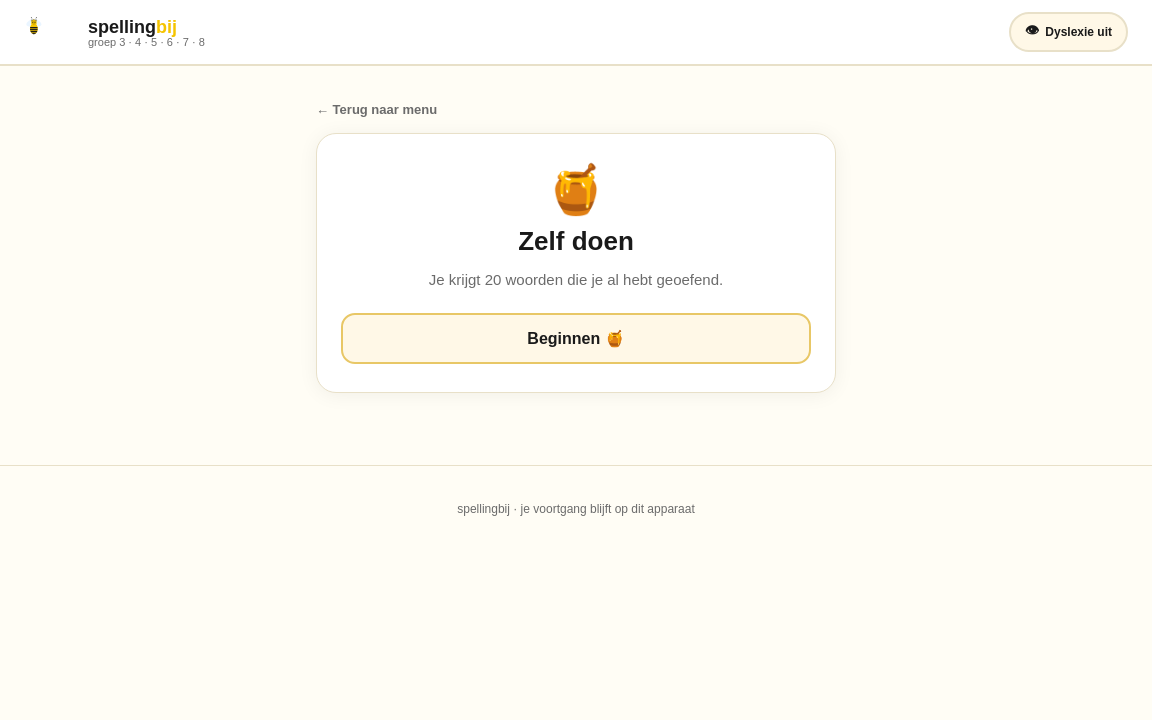
Test: Zelf doen met werkwoordzinnen gemengd door de woorden › een zin-item toont meteen het gat (geen flits-fase), zonder feedback, en telt mee in het resultaat
Click the button "Beginnen 🍯" at [576, 338], box top-left (341, 312), bottom-right (811, 364)
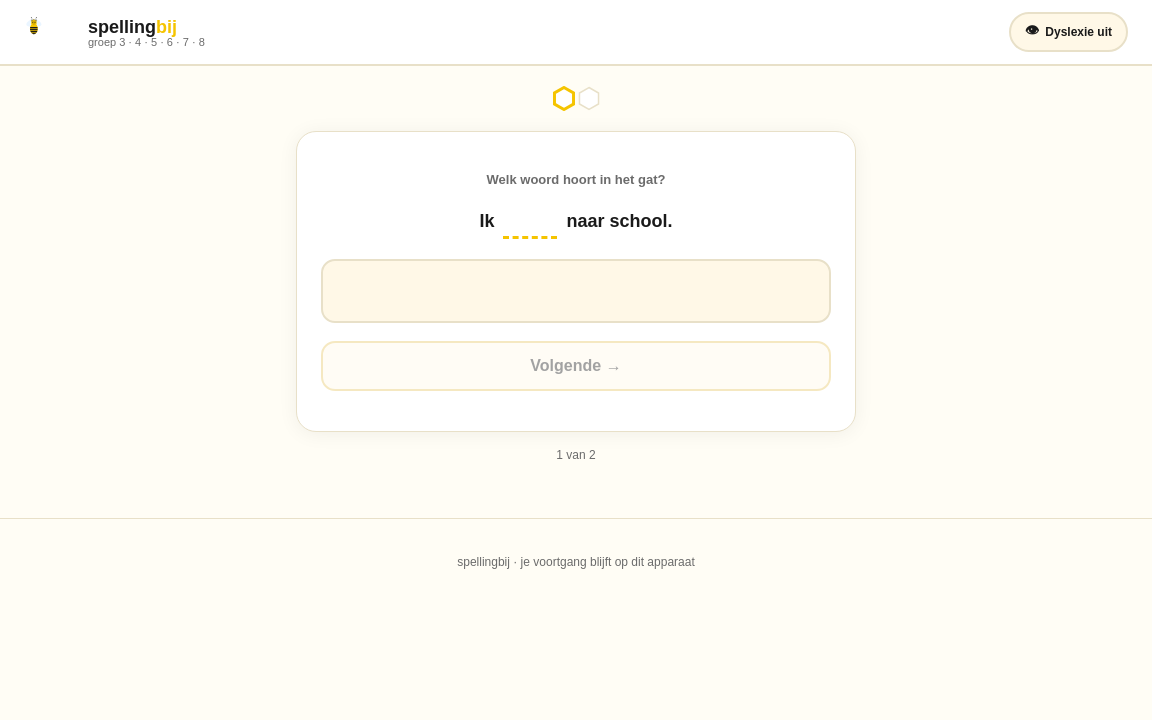
Now the text "Welk woord hoort in het gat?" is shown, box top-left (487, 172), bottom-right (666, 187)
Type "loop" into the field at [576, 291], box top-left (321, 259), bottom-right (831, 323)
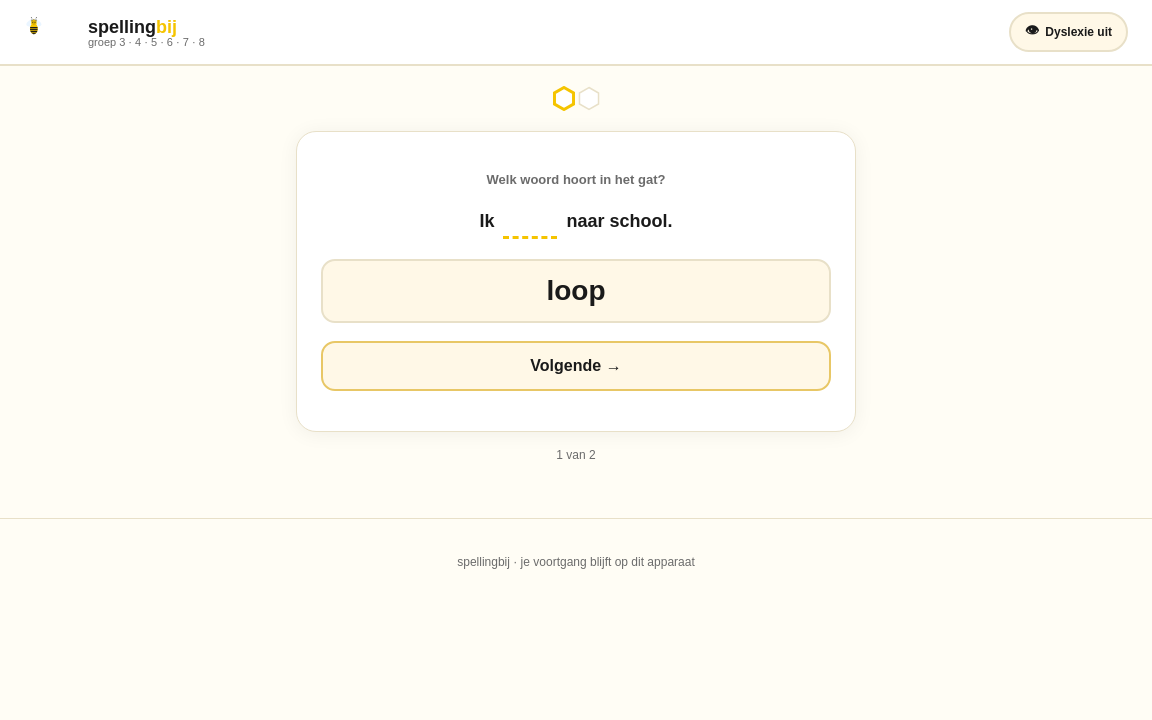
Click the button "Volgende →" at [576, 366], box top-left (321, 341), bottom-right (831, 391)
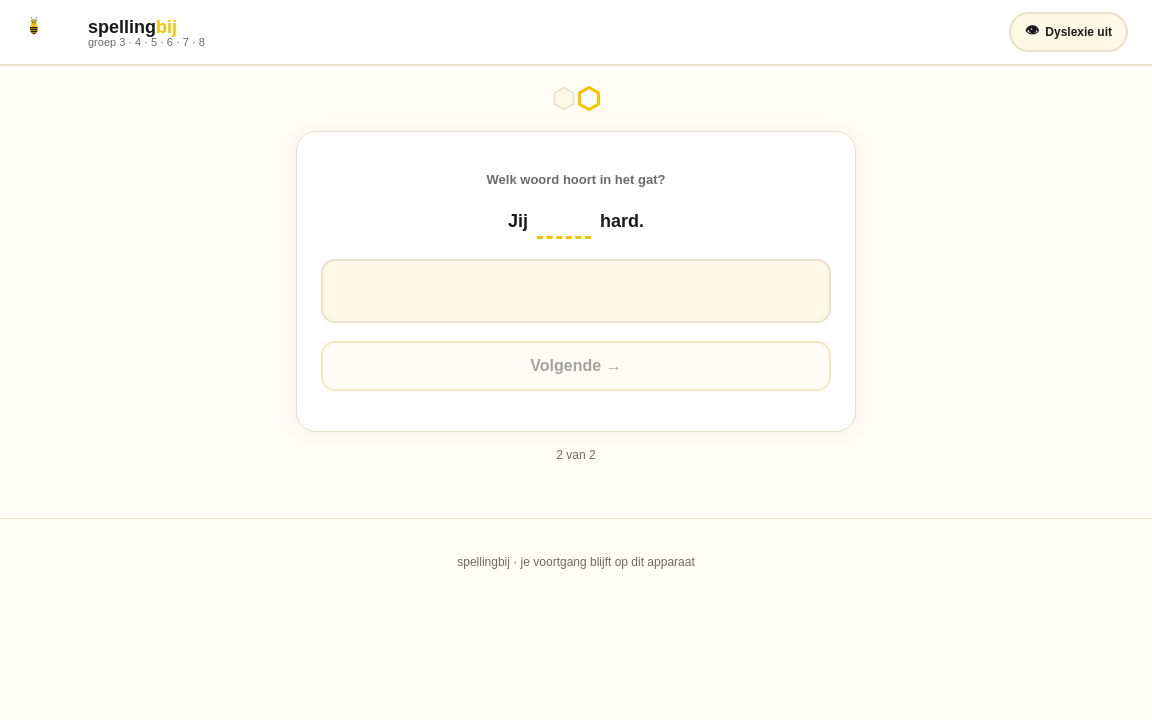
Now the text "Welk woord hoort in het gat?" is shown, box top-left (487, 172), bottom-right (666, 187)
Type "loopt" into the field at [576, 291], box top-left (321, 259), bottom-right (831, 323)
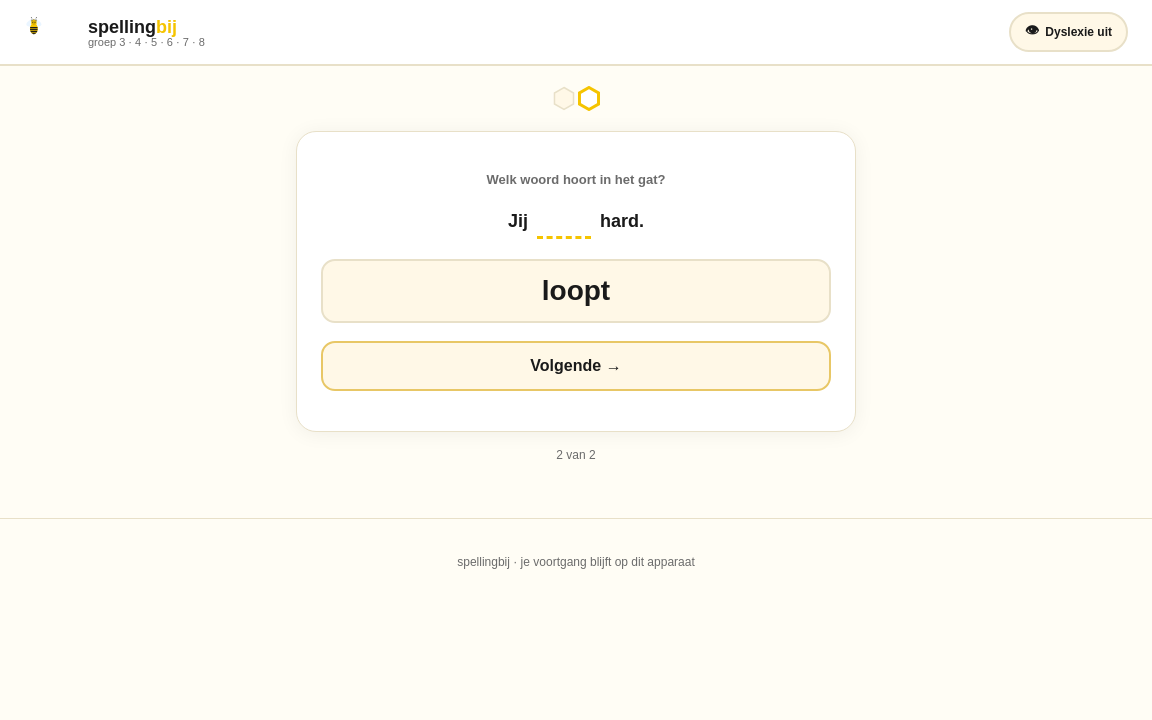
Click the button "Volgende →" at [576, 366], box top-left (321, 341), bottom-right (831, 391)
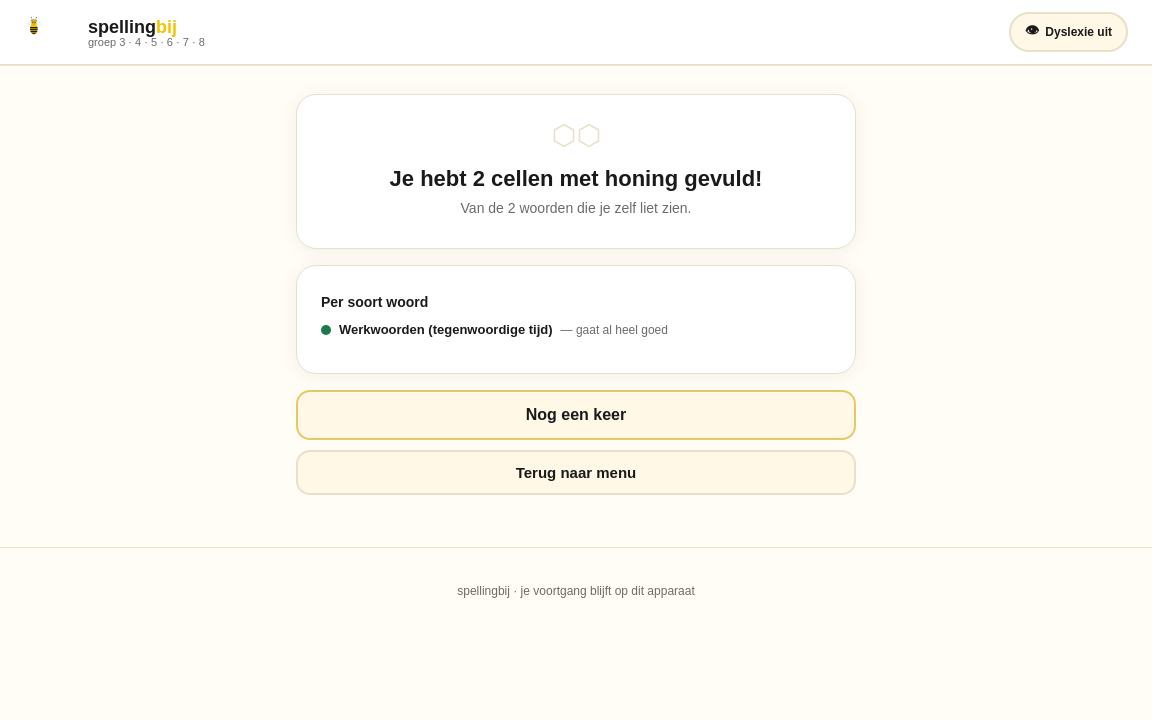
Now the heading "Je hebt 2 cellen met honing gevuld!" is shown, box top-left (390, 166), bottom-right (762, 191)
